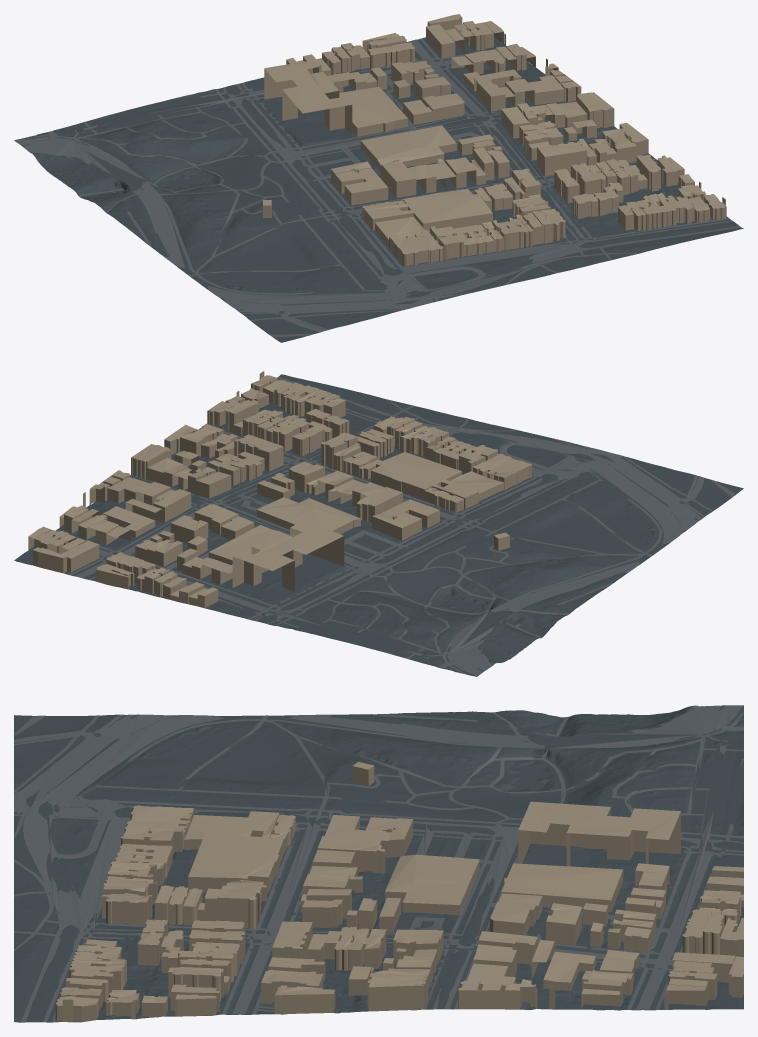
File: epsg26910-1427-10886.lod0.glb
3 renders of one model, top to bottom at view 1: azimuth 30°, elevation 25°; view 2: azimuth 150°, elevation 25°; view 3: azimuth 270°, elevation 25°, orthographic. The views are drawn at different scales.
Visible parts, largest first — view 1: epsg26910-1427-10886-lod0; view 2: epsg26910-1427-10886-lod0; view 3: epsg26910-1427-10886-lod0.
Part boxes in pixels (bbox=[...]): epsg26910-1427-10886-lod0: bbox=[14, 14, 743, 342]; epsg26910-1427-10886-lod0: bbox=[14, 371, 743, 676]; epsg26910-1427-10886-lod0: bbox=[14, 705, 743, 1022].
Bounding box in the file's own units: 384 × 34.01 × 384.
